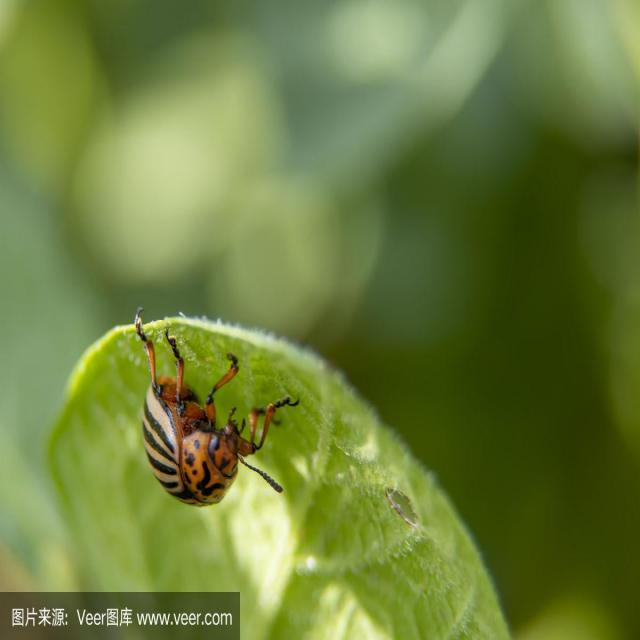ShuCaiHuaBanChong-Grown-: (128, 348, 250, 522)
